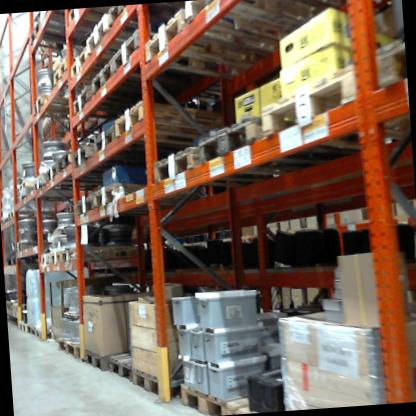pallet: (257, 52, 404, 165), (139, 0, 284, 89), (194, 114, 335, 191), (150, 137, 308, 203), (179, 0, 392, 47), (110, 94, 256, 154), (110, 27, 225, 94), (87, 53, 190, 108), (83, 12, 192, 61), (92, 175, 195, 216), (68, 82, 151, 127), (368, 24, 409, 107), (67, 134, 141, 176), (175, 375, 249, 416), (66, 43, 125, 91), (54, 241, 144, 269), (131, 361, 184, 406), (48, 51, 99, 93), (23, 11, 76, 49), (31, 88, 79, 128), (105, 3, 167, 29), (79, 336, 114, 375), (227, 395, 294, 413), (108, 351, 140, 388), (7, 204, 60, 224), (89, 119, 118, 155), (64, 9, 109, 29), (71, 192, 105, 218), (56, 334, 81, 367), (55, 145, 74, 179), (33, 320, 55, 345), (30, 167, 51, 193), (43, 159, 61, 186), (38, 247, 57, 268), (16, 240, 40, 256), (13, 179, 37, 193), (12, 301, 24, 317), (24, 321, 37, 335), (18, 318, 30, 331)
